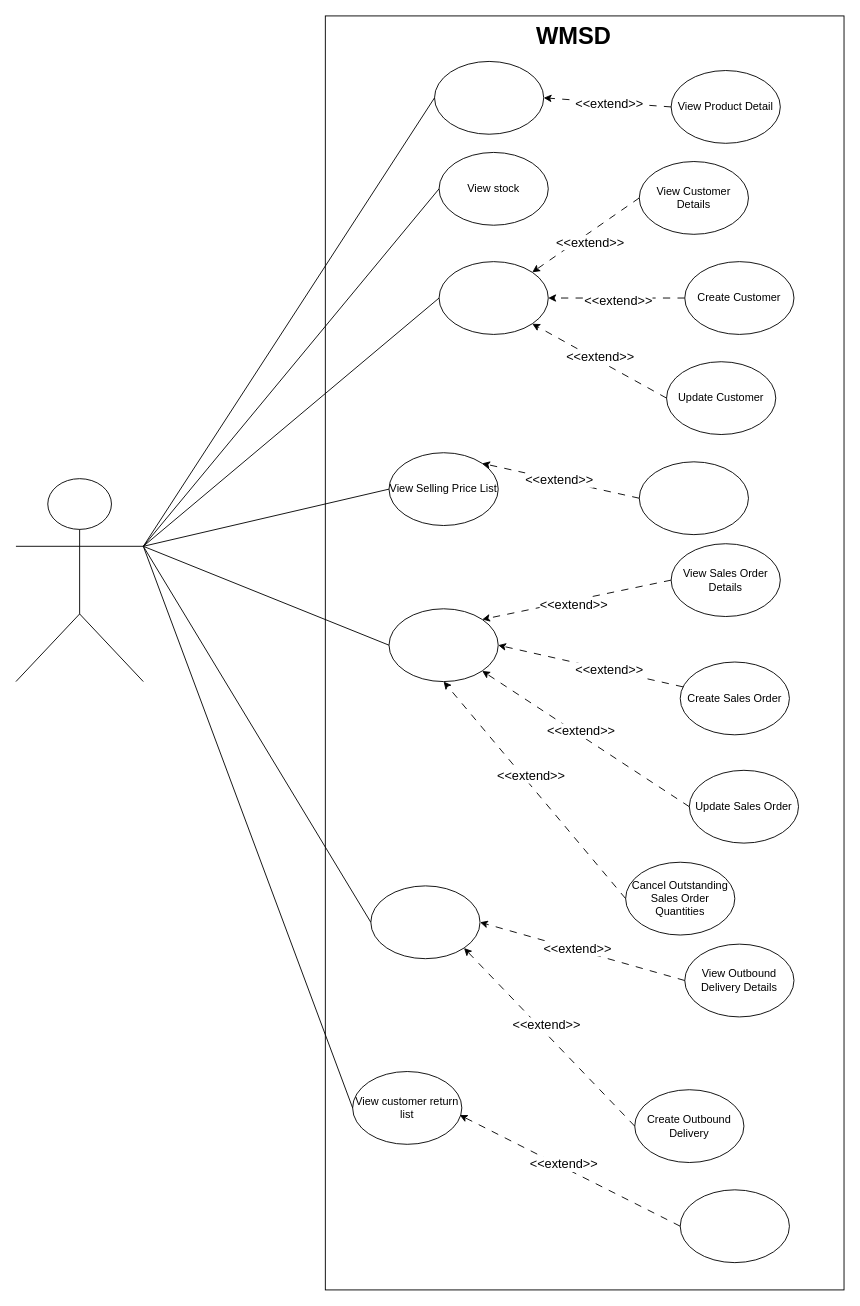
The diagram is 860 pixels wide and 1306 high, and some of its shapes have lost their labels. Here are the shapes that lost their labels. From the top down, the centre of each, then its label:
the point at 489,97: View Product List
the point at 493,297: View Customer List
the point at 693,498: View Selling Price Details
the point at 79,580: Sales Staff
the point at 443,645: View Sales Order List
the point at 425,922: View Outbound Delivery List
the point at 734,1226: View customer return details
